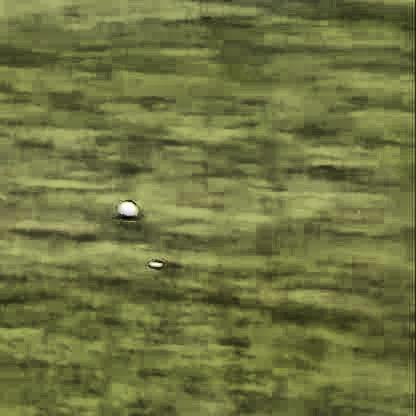golfball: (115, 199, 134, 217)
